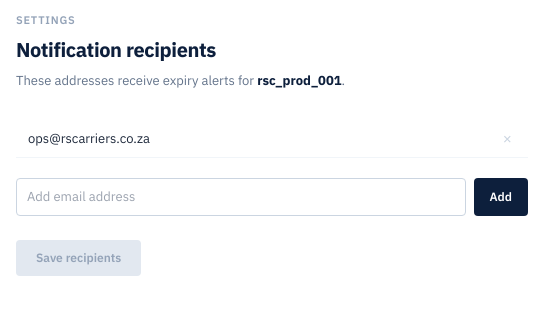
Scenario: NotificationRecipientsPage › rejects duplicate email
The image size is (546, 313).
expect the text "ops@rscarriers.co.za" is shown: met, box [28, 128, 150, 148]
Type "ops@rscarriers.co.za" into the field with placeholder "Add email address" at (241,197), box [16, 178, 466, 216]
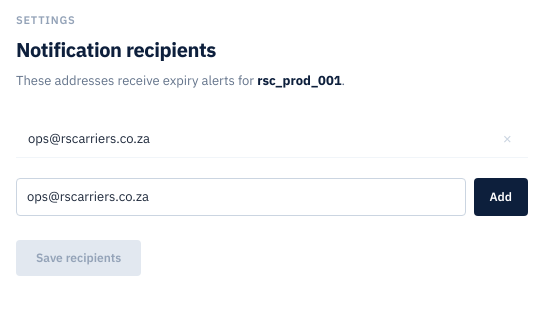
Click the button "Add" at (501,197), box [474, 178, 528, 216]
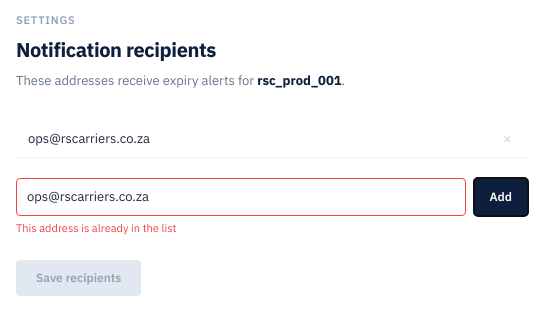
expect the text "This address is already in the list" is shown: met, box [16, 221, 176, 235]
